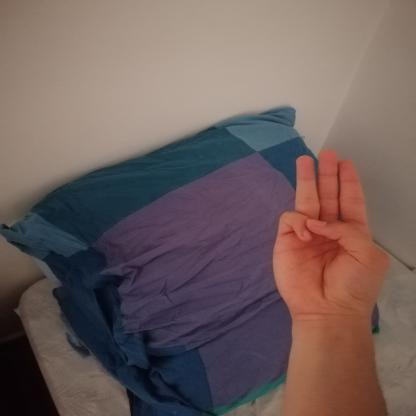THA: (255, 143, 402, 327)
